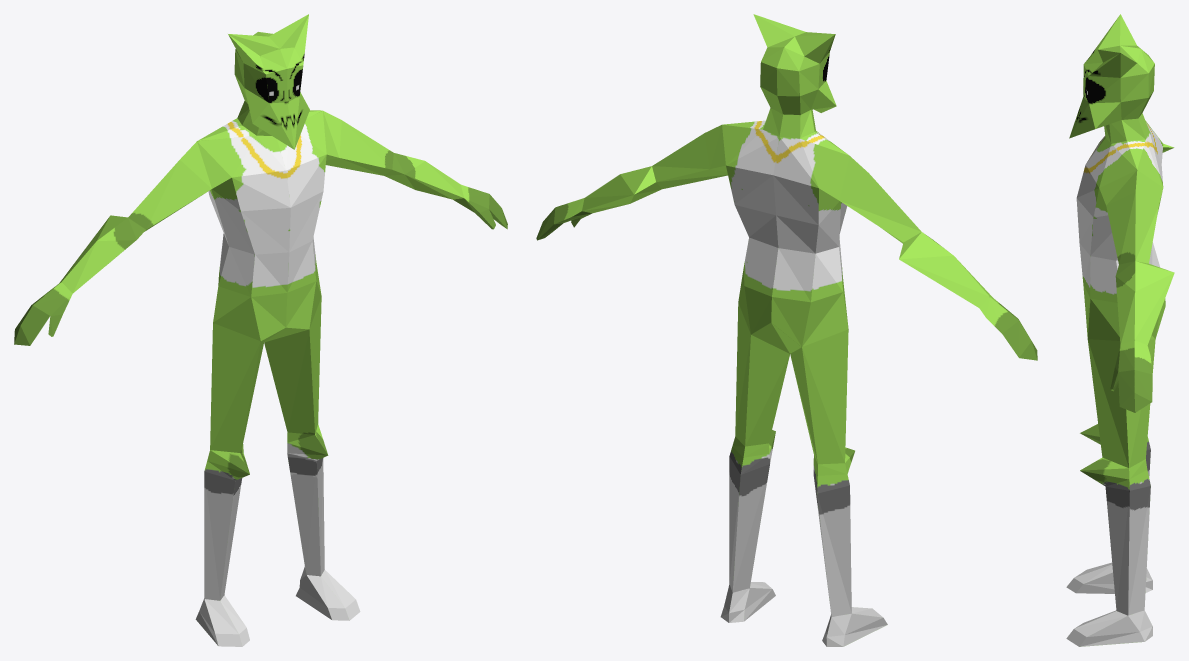
Rendered from teacher.obj.
The picture shows the model from 3 angles, left to right: view 1: azimuth 30°, elevation 25°; view 2: azimuth 150°, elevation 25°; view 3: azimuth 270°, elevation 25°; orthographic projection. The views are drawn at different scales.
Parts seen in each view (by area): view 1: HumanoidBase_NotOverlapping; view 2: HumanoidBase_NotOverlapping; view 3: HumanoidBase_NotOverlapping.
Part boxes in pixels (x1,y1,x2,y2): HumanoidBase_NotOverlapping: [14, 14, 507, 646]; HumanoidBase_NotOverlapping: [536, 14, 1037, 646]; HumanoidBase_NotOverlapping: [1066, 14, 1174, 646].
Size of the model in its own units: 1.61 by 1.84 by 0.312.
1 material, 1 textured.
